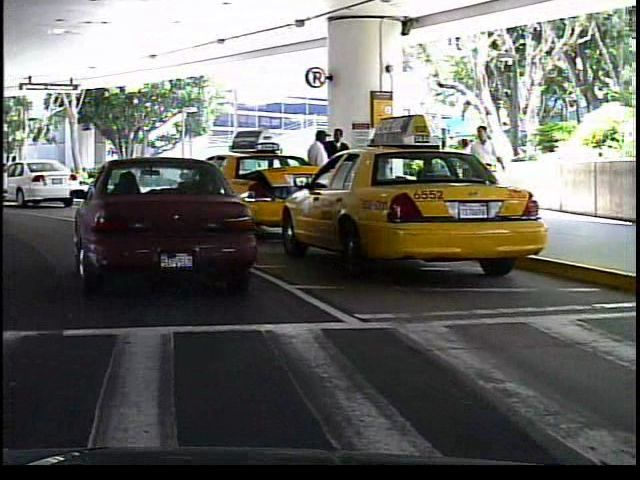person: (466, 120, 506, 222), (303, 126, 332, 219), (324, 126, 351, 213), (450, 131, 480, 208)
